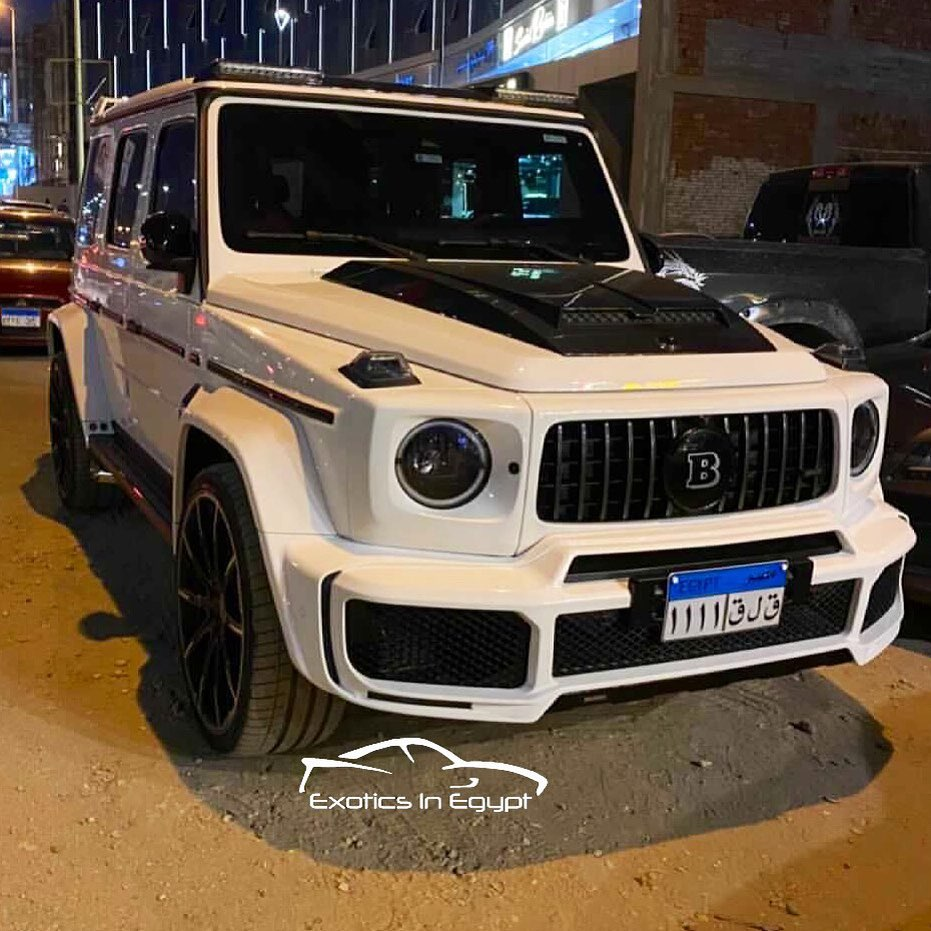carpl: (663, 579, 789, 636)
